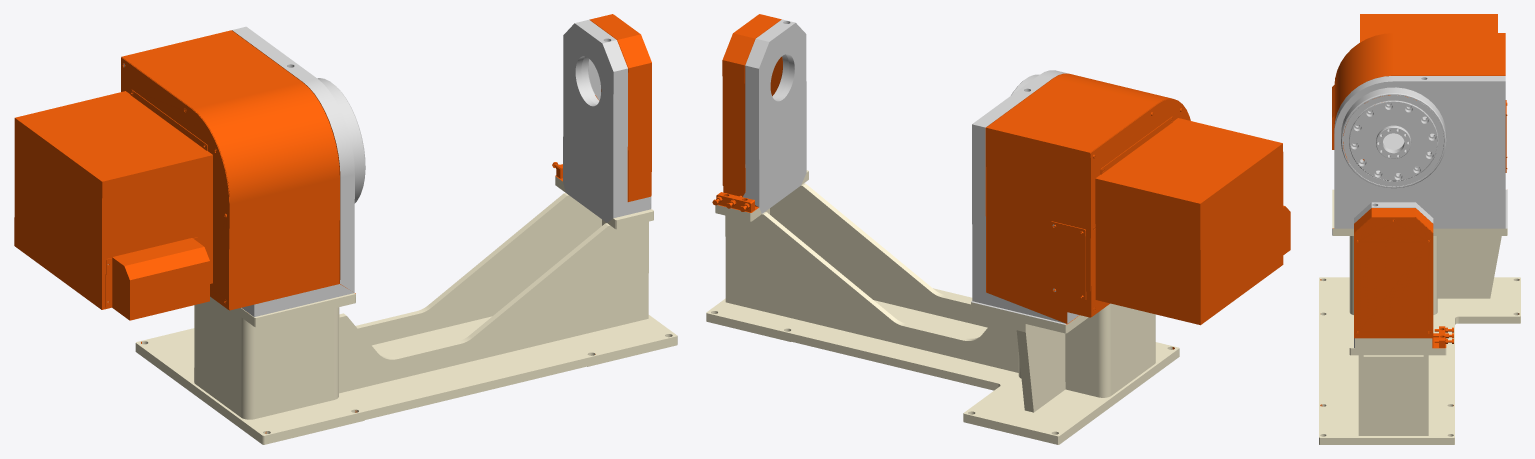
3 renders of one model, left to right at view 1: azimuth 30°, elevation 25°; view 2: azimuth 150°, elevation 25°; view 3: azimuth 270°, elevation 25°, orthographic. The views are drawn at different scales.
Visible parts, largest first — view 1: _X2_C194B9ACB4DC_X0_1-20; view 2: _X2_C194B9ACB4DC_X0_1-20; view 3: _X2_C194B9ACB4DC_X0_1-20, _X2_C194B9ACB4DC_X0_1-6500.
Part boxes in pixels (x1=…): _X2_C194B9ACB4DC_X0_1-20: x1=14, y1=14, x2=677, y2=444; _X2_C194B9ACB4DC_X0_1-20: x1=706, y1=14, x2=1290, y2=444; _X2_C194B9ACB4DC_X0_1-20: x1=1319, y1=14, x2=1520, y2=444; _X2_C194B9ACB4DC_X0_1-6500: x1=1350, y1=101, x2=1437, y2=181.
Bounding box in the file's own units: 1.14 × 0.6114 × 0.46.
